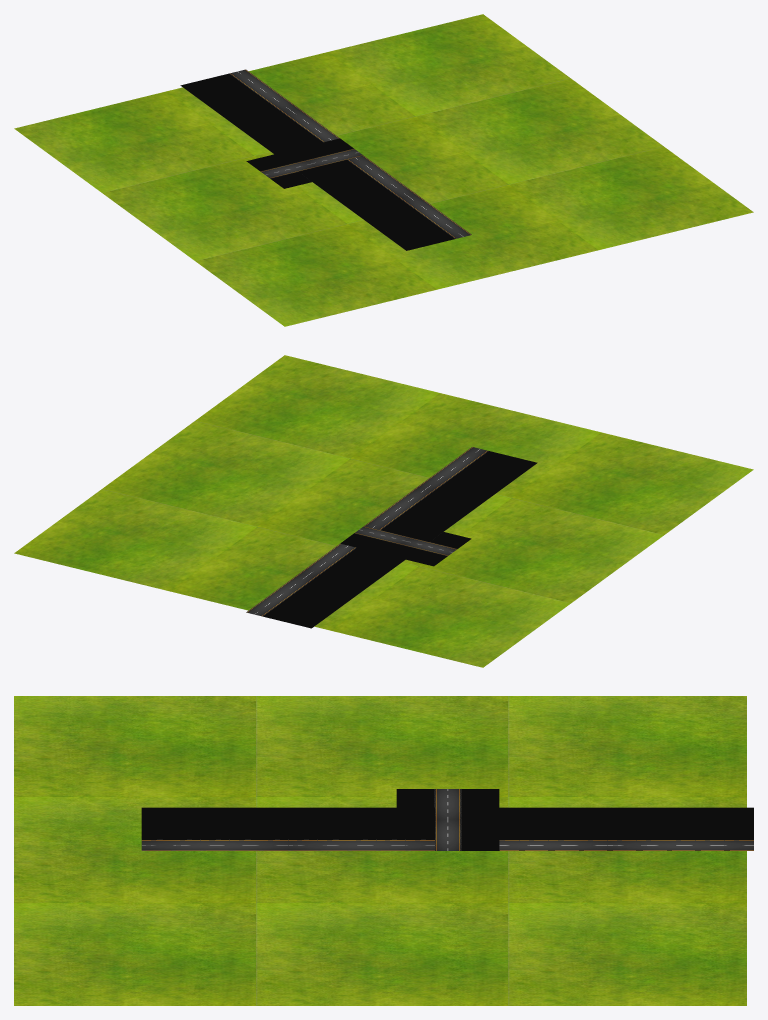
Rendered from Piso.obj.
3 renders of one model, top to bottom at view 1: azimuth 30°, elevation 25°; view 2: azimuth 150°, elevation 25°; view 3: azimuth 270°, elevation 25°, orthographic. The views are drawn at different scales.
Visible parts, largest first — view 1: Piso4:Mesh, pPlane1, pPlane2, Piso4:pPlane1; view 2: Piso4:Mesh, pPlane1, pPlane2, Piso4:pPlane1; view 3: Piso4:Mesh, pPlane1, pPlane2, Piso4:pPlane1.
Part boxes in pixels (x1,y1,x2,y2): Piso4:Mesh: (14,14,753,326); pPlane1: (298,155,471,250); pPlane2: (180,69,339,154); Piso4:pPlane1: (246,138,363,188); Piso4:Mesh: (14,355,753,667); pPlane1: (364,447,537,541); pPlane2: (246,543,405,628); Piso4:pPlane1: (340,526,471,566); Piso4:Mesh: (14,696,746,1005); pPlane1: (141,807,434,850); pPlane2: (499,807,753,850); Piso4:pPlane1: (396,789,499,850).
Size of the model in its own units: 2500 by 0.5 by 2524.
4 materials, 4 textured.
